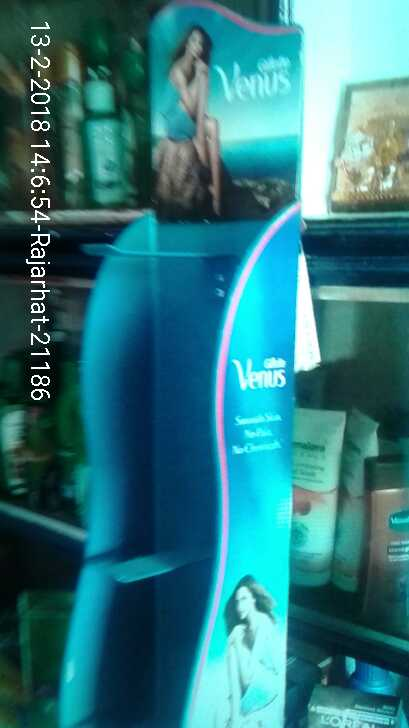reject: (170, 192, 251, 257)
